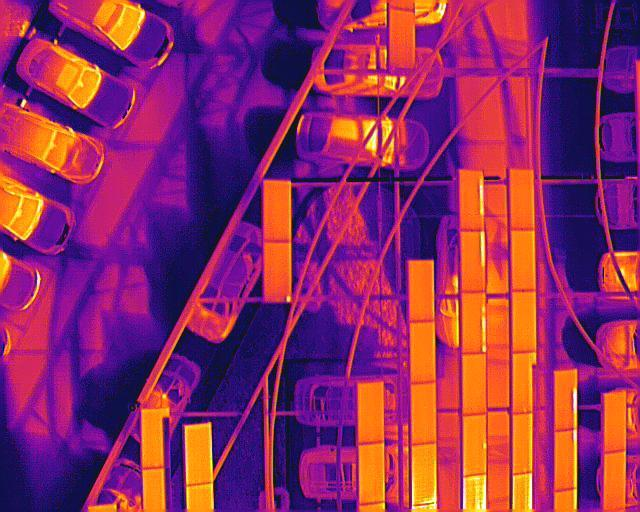Cell: (264, 242, 292, 303), (462, 415, 488, 478)
No-Anomaly: (407, 259, 434, 321), (184, 425, 211, 486), (410, 321, 437, 382), (358, 382, 385, 443), (264, 180, 290, 242), (509, 168, 535, 229), (411, 383, 437, 444), (390, 8, 416, 67), (359, 443, 384, 504), (461, 352, 486, 413), (511, 230, 536, 290), (512, 291, 536, 352), (141, 409, 164, 469), (604, 450, 626, 509), (512, 354, 534, 413), (604, 394, 626, 453), (511, 415, 532, 474)
Unclassified: (458, 170, 485, 232), (412, 442, 437, 505), (461, 230, 485, 292), (554, 370, 578, 430), (462, 293, 486, 352), (554, 431, 577, 490)
